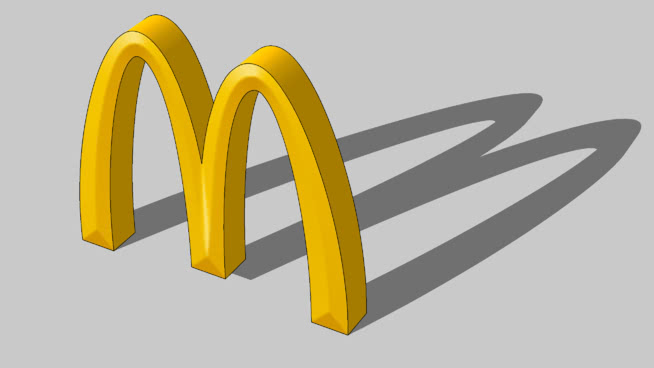mcdonalds: (79, 12, 370, 334)
